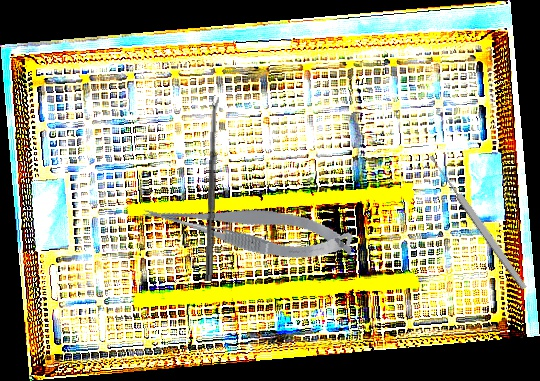Micro Scissor: (139, 177, 358, 277)
Surgical Spoon: (427, 152, 529, 292), (205, 96, 220, 282)
